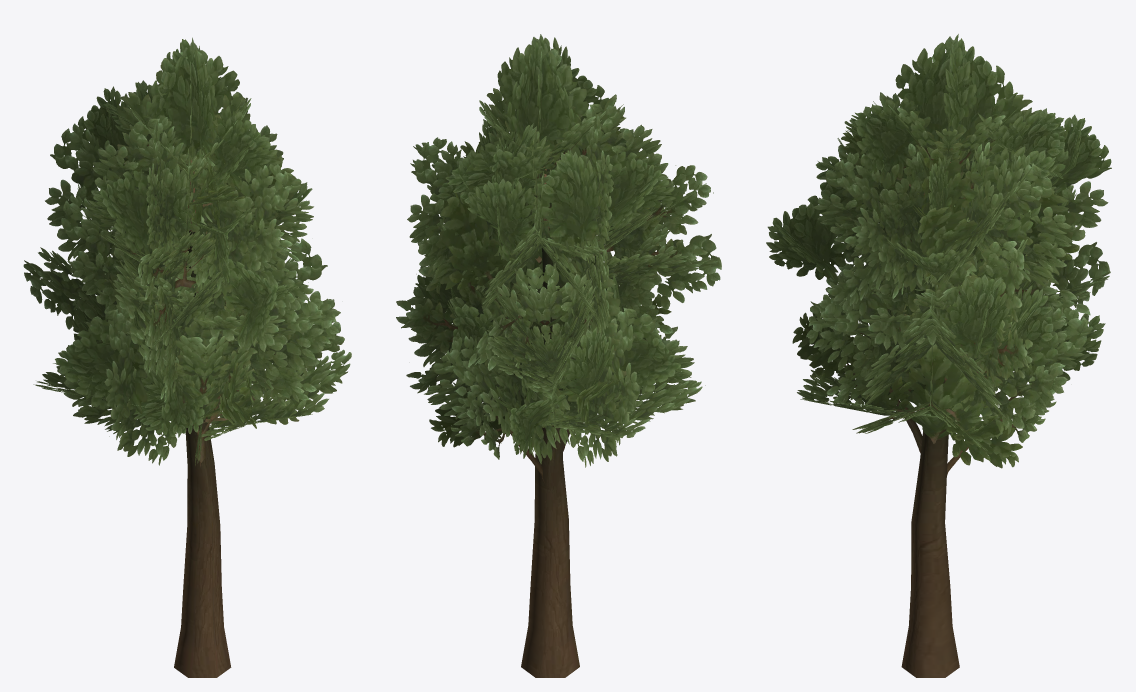
3 renders of one model, left to right at view 1: azimuth 30°, elevation 25°; view 2: azimuth 150°, elevation 25°; view 3: azimuth 270°, elevation 25°, orthographic. The views are drawn at different scales.
Bounding box in the file's own units: 7.9 × 15.97 × 7.9.
Materials: 1 (1 with a texture image).
